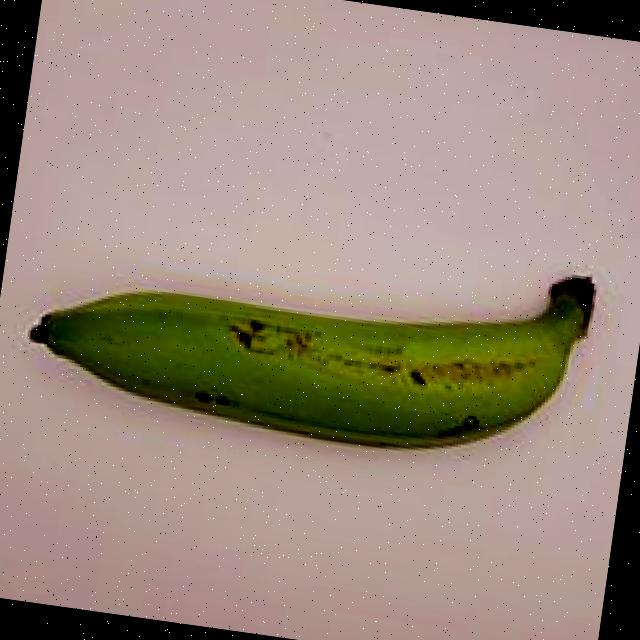Raw: (0, 158, 621, 520)
